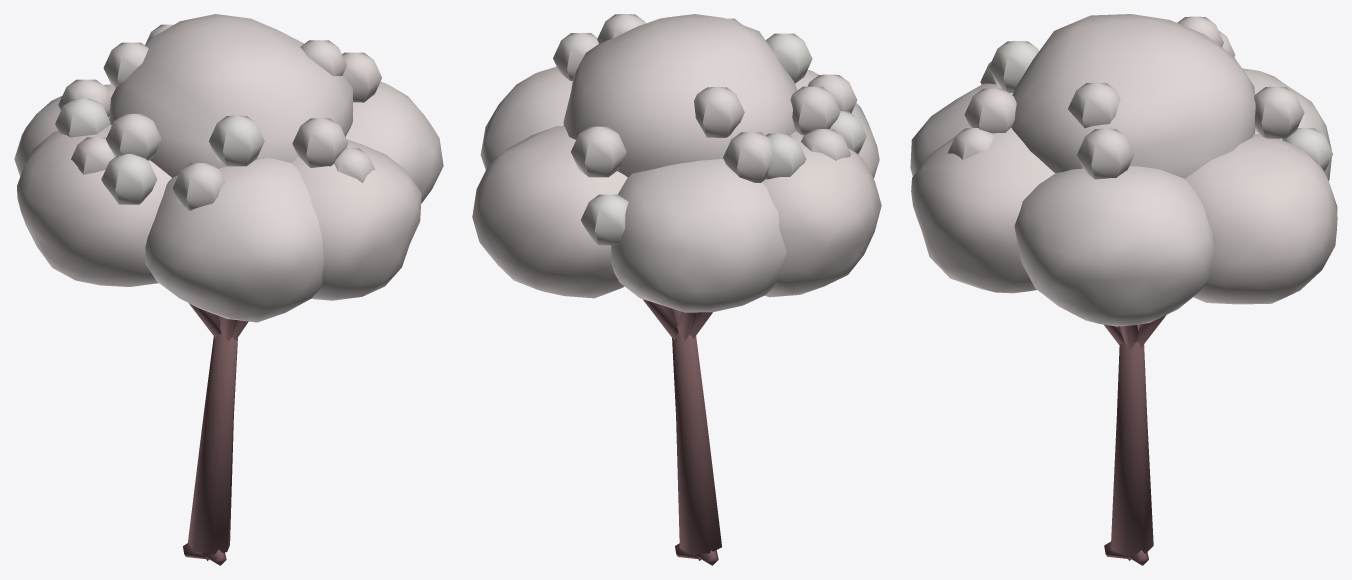
Rendered from crab_apple.glb.
3 views of the same model, side by side, from view 1: azimuth 30°, elevation 25°; view 2: azimuth 150°, elevation 25°; view 3: azimuth 270°, elevation 25° (orthographic). The views are drawn at different scales.
Parts seen in each view (by area): view 1: crab_apple; view 2: crab_apple; view 3: crab_apple.
Part boxes in pixels (x1,y1,x2,y2): crab_apple: (14,14,443,565); crab_apple: (472,14,881,565); crab_apple: (910,14,1337,565).
Size of what is drawn, in the model's own units: 4.54 by 6 by 4.31.
